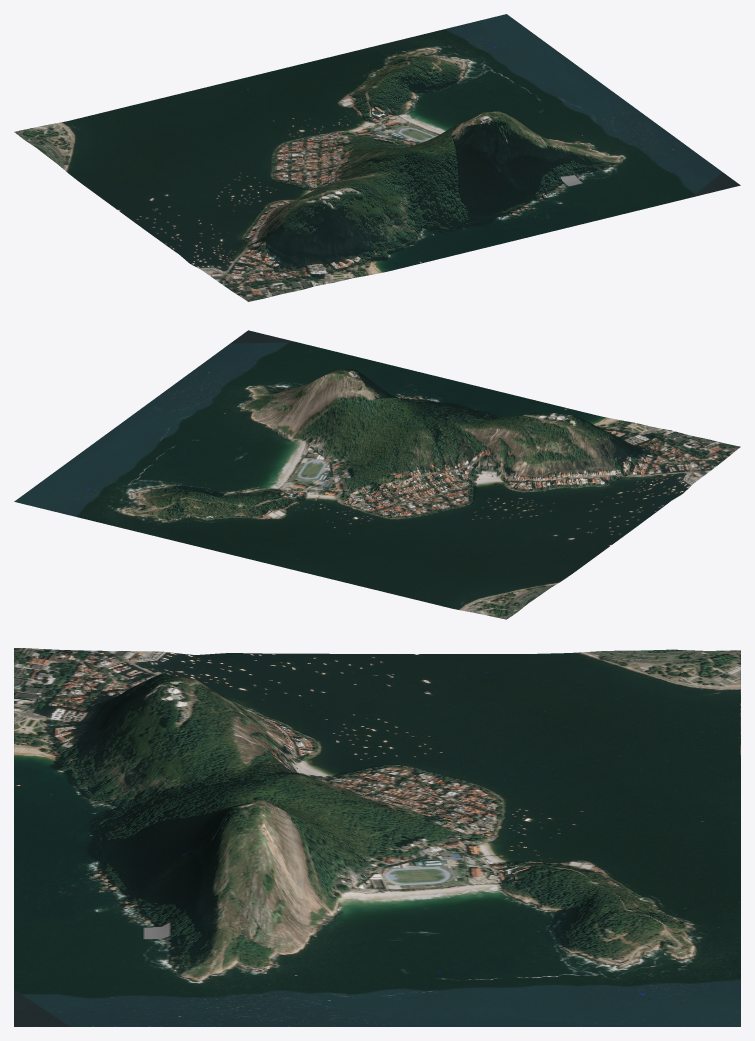
File: landscape.glb
The picture shows the model from 3 angles, top to bottom: view 1: azimuth 30°, elevation 25°; view 2: azimuth 150°, elevation 25°; view 3: azimuth 270°, elevation 25°; orthographic projection. The views are drawn at different scales.
Visible parts, largest first — view 1: Object_2; view 2: Object_2; view 3: Object_2.
Part boxes in pixels (left/top/right/bottom): Object_2: left=14, top=14, right=740, bottom=301; Object_2: left=14, top=330, right=740, bottom=619; Object_2: left=14, top=648, right=740, bottom=1026.
Bounding box in the file's own units: 2599 × 293 × 2140.
1 material, 1 textured.
